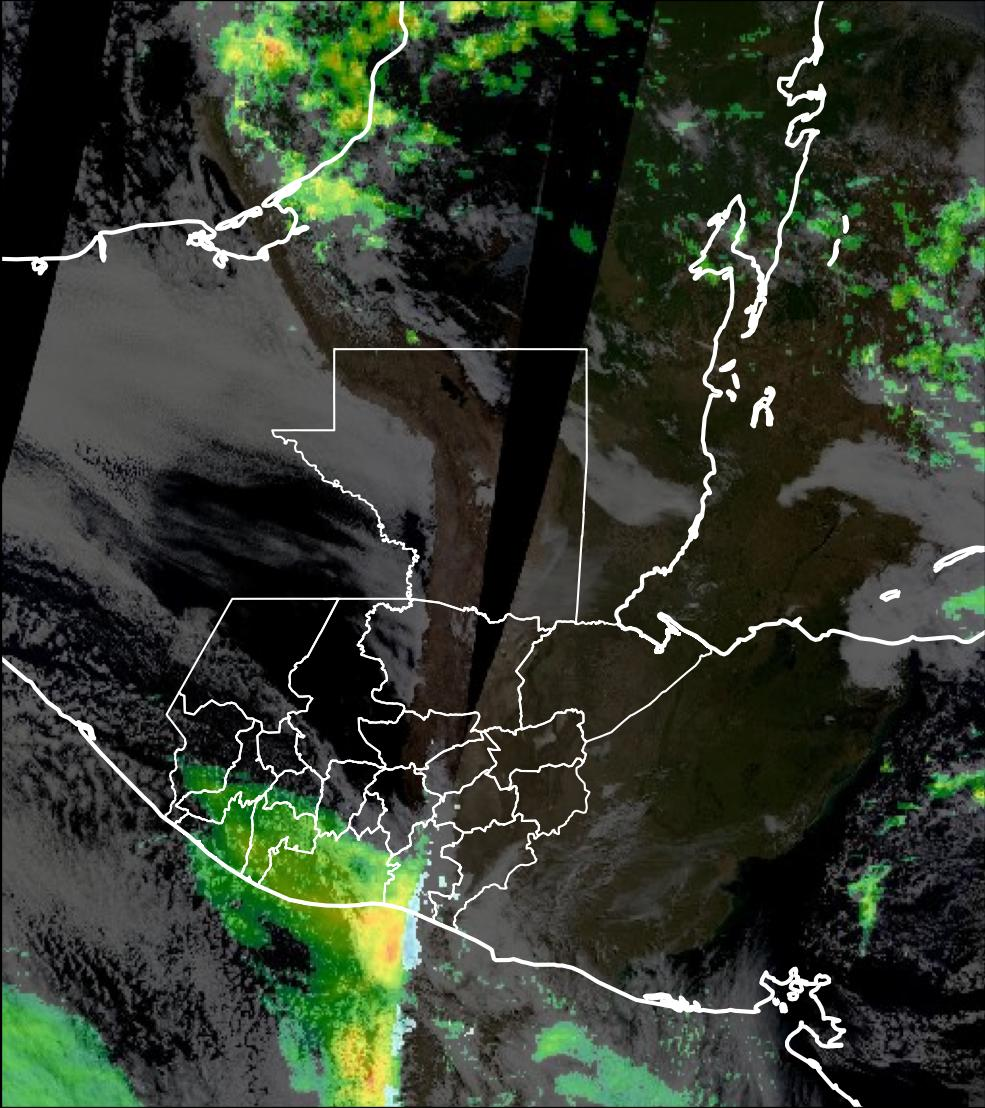precipitacion: (221, 12, 302, 84)
